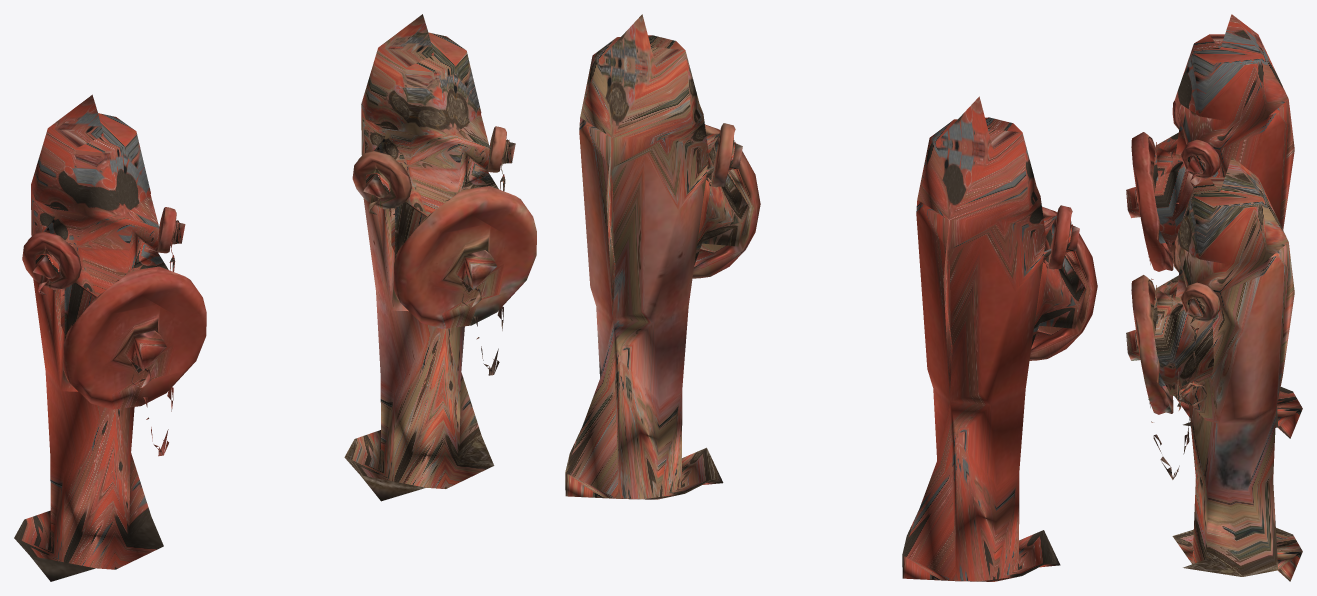
File: fire_hydrant.glb
3 renders of one model, left to right at view 1: azimuth 30°, elevation 25°; view 2: azimuth 150°, elevation 25°; view 3: azimuth 270°, elevation 25°, orthographic. The views are drawn at different scales.
Visible parts, largest first — view 1: fire_hydrant, fire_hydrant_aged, fire_hydrant_cap_01, fire_hydrant_cap_01_aged, fire_hydrant_cap_03, fire_hydrant_cap_03_aged, fire_hydrant_cap_02_aged, fire_hydrant_cap_02, fire_hydrant_chain, fire_hydrant_chain_aged; view 2: fire_hydrant, fire_hydrant_aged, fire_hydrant_cap_01_aged, fire_hydrant_cap_01, fire_hydrant_cap_03, fire_hydrant_cap_03_aged; view 3: fire_hydrant_aged, fire_hydrant, fire_hydrant_cap_01_aged, fire_hydrant_cap_01, fire_hydrant_cap_02, fire_hydrant_cap_02_aged, fire_hydrant_chain_aged.
Boxes of the visible parts, box(x1,y1,x2,y2) form: fire_hydrant: box(14, 94, 168, 581); fire_hydrant_aged: box(344, 14, 498, 501); fire_hydrant_cap_01: box(63, 266, 206, 409); fire_hydrant_cap_01_aged: box(393, 186, 536, 328); fire_hydrant_cap_03: box(22, 231, 81, 289); fire_hydrant_cap_03_aged: box(352, 151, 411, 209); fire_hydrant_cap_02_aged: box(487, 126, 515, 172); fire_hydrant_cap_02: box(157, 207, 185, 253); fire_hydrant_chain: box(38, 222, 176, 456); fire_hydrant_chain_aged: box(368, 141, 506, 375); fire_hydrant: box(902, 96, 1086, 581); fire_hydrant_aged: box(565, 14, 749, 499); fire_hydrant_cap_01_aged: box(692, 124, 760, 278); fire_hydrant_cap_01: box(1029, 206, 1097, 360); fire_hydrant_cap_03: box(1048, 205, 1079, 269); fire_hydrant_cap_03_aged: box(711, 123, 742, 187); fire_hydrant_aged: box(1153, 157, 1302, 581); fire_hydrant: box(1153, 14, 1302, 438); fire_hydrant_cap_01_aged: box(1126, 275, 1173, 414); fire_hydrant_cap_01: box(1126, 132, 1173, 271); fire_hydrant_cap_02: box(1180, 139, 1220, 178); fire_hydrant_cap_02_aged: box(1180, 282, 1220, 321); fire_hydrant_chain_aged: box(1148, 294, 1206, 479).
Size of the model in its own units: 0.8738 by 0.7972 by 0.3137.
2 materials, 2 textured.
